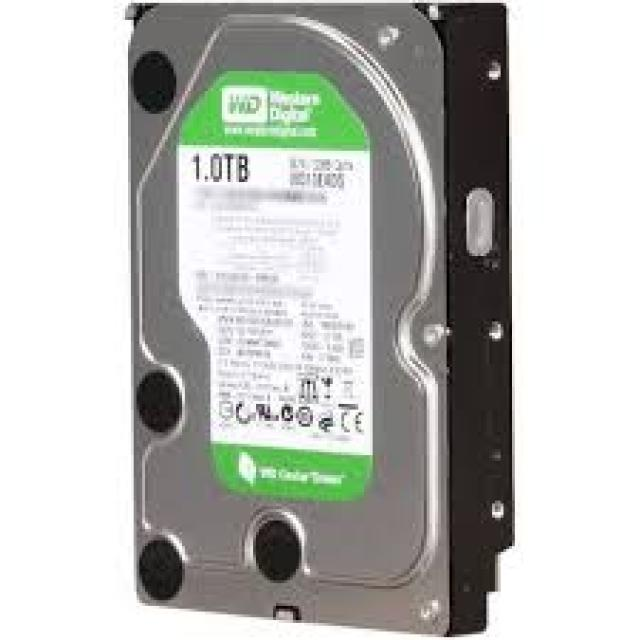Hazard: (126, 0, 531, 633)
